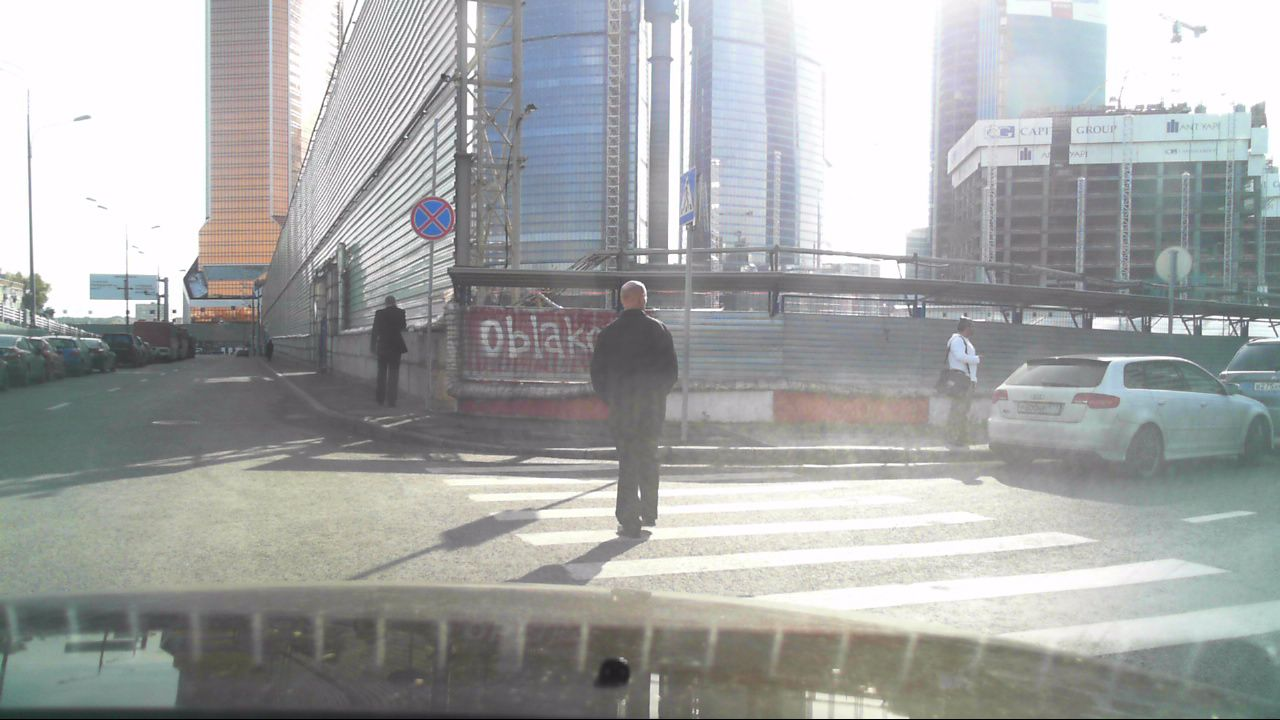No Parking: (411, 196, 455, 240)
